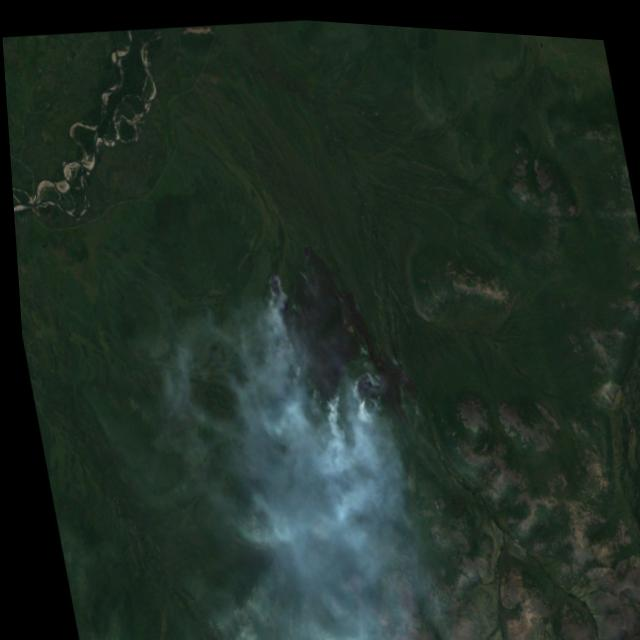fire: (252, 229, 383, 422)
